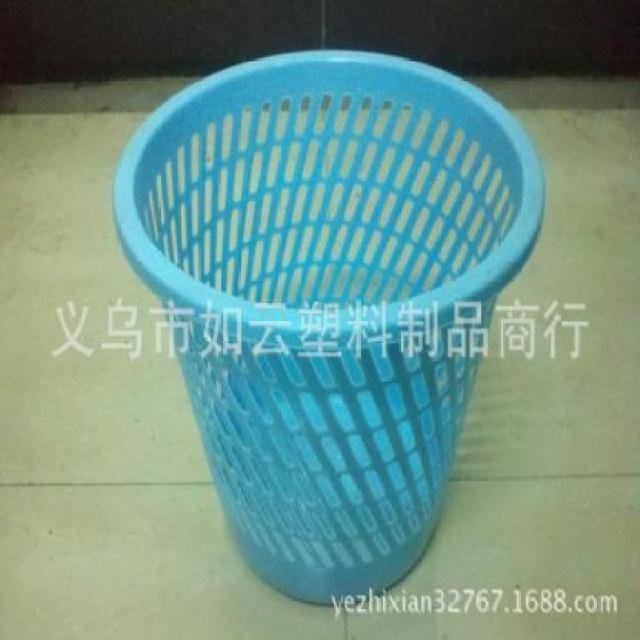dustbin: (110, 46, 548, 609)
